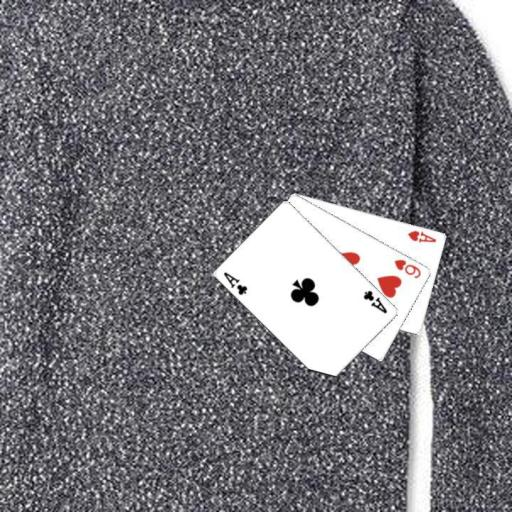6H: (391, 256, 423, 279)
AC: (361, 287, 389, 315), (220, 269, 249, 296)
AH: (405, 227, 438, 244)
